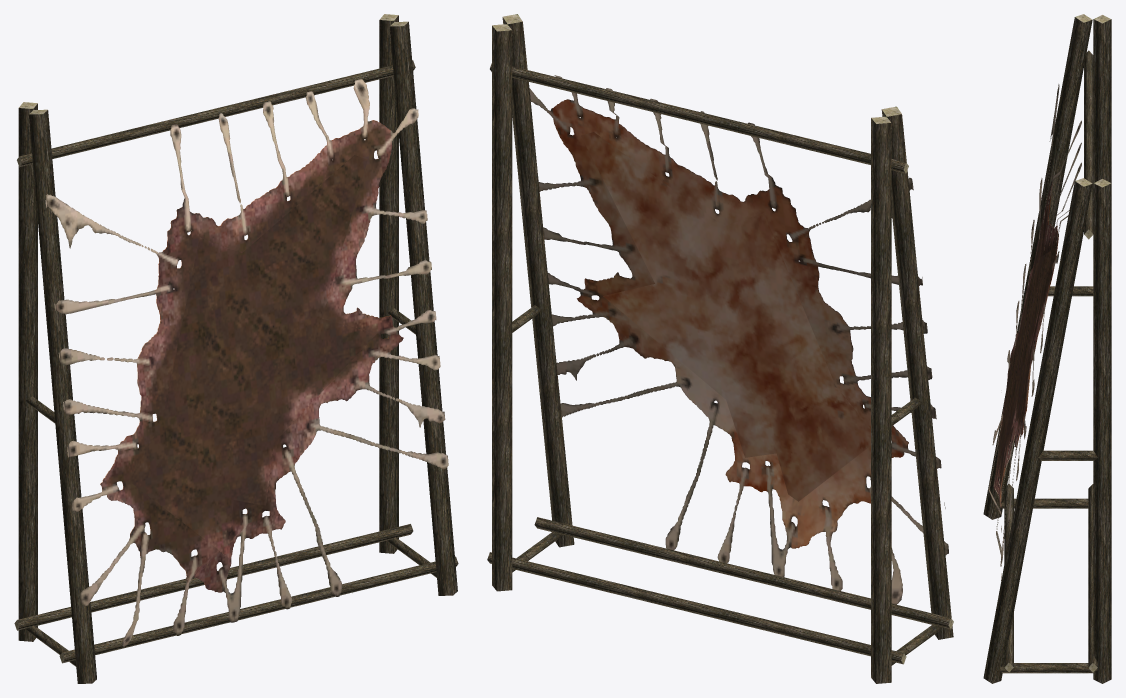
File: thm_dant_hide_tanning_s01_l2.fbx
3 views of the same model, side by side, from view 1: azimuth 30°, elevation 25°; view 2: azimuth 150°, elevation 25°; view 3: azimuth 270°, elevation 25° (orthographic). The views are drawn at different scales.
Visible parts, largest first — view 1: mesh_node; view 2: mesh_node; view 3: mesh_node.
Part boxes in pixels (bbox=[...]): mesh_node: bbox=[14, 14, 458, 683]; mesh_node: bbox=[487, 14, 953, 683]; mesh_node: bbox=[983, 14, 1111, 683].
Size of the model in its own units: 1.39 by 1.81 by 0.4214.
